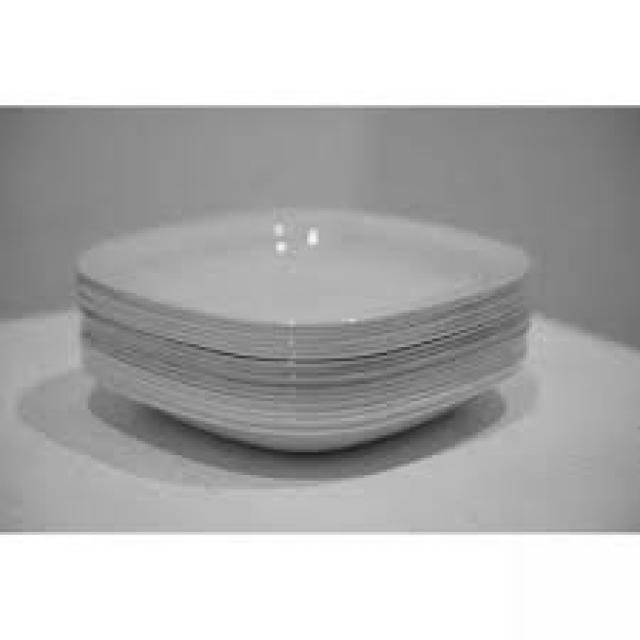dish: (55, 133, 558, 476)
